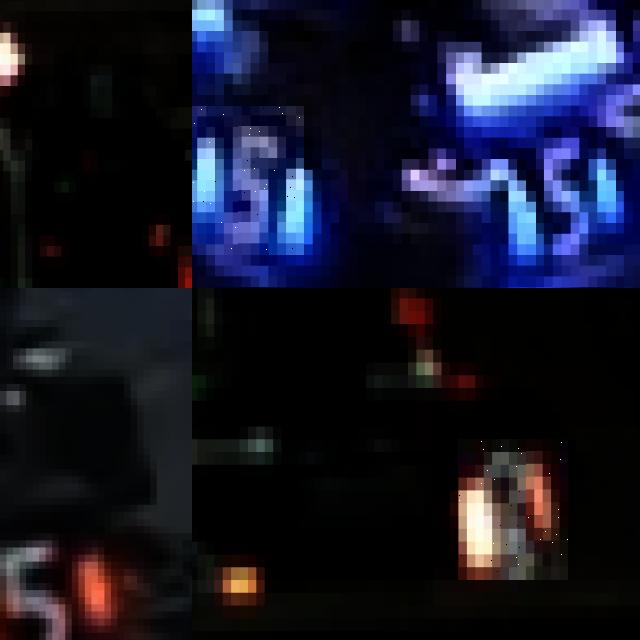B5: (192, 105, 303, 255), (499, 127, 615, 266)
R5: (0, 533, 117, 640)
Rs: (458, 439, 568, 580)
